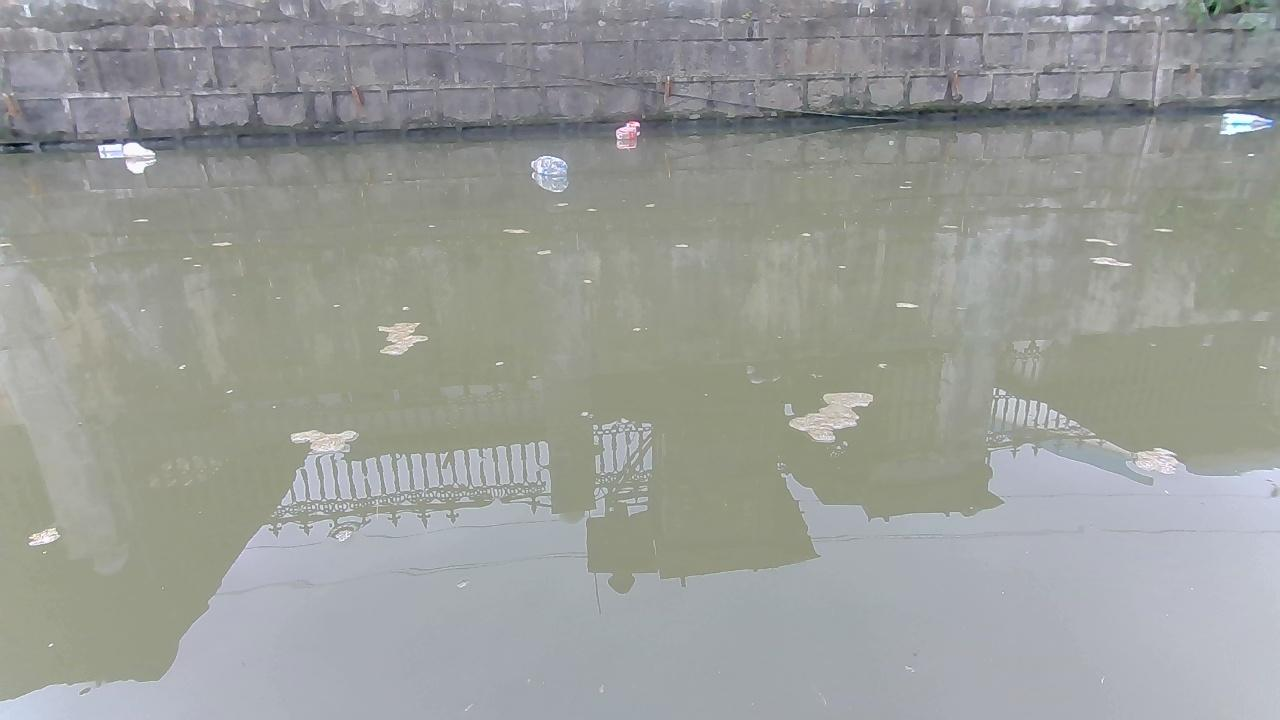bottle: (1220, 110, 1272, 132), (528, 152, 567, 176), (96, 137, 126, 158), (122, 143, 157, 159), (615, 123, 637, 142), (625, 117, 642, 135)
